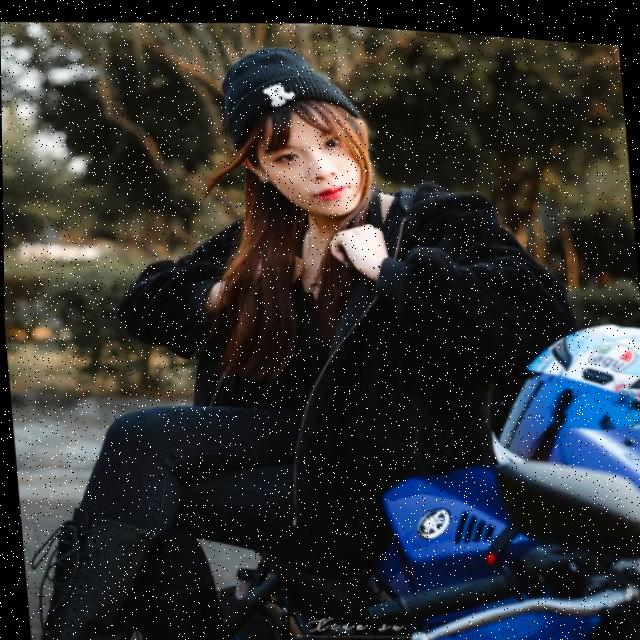illegal_helmet: (209, 27, 382, 224)
